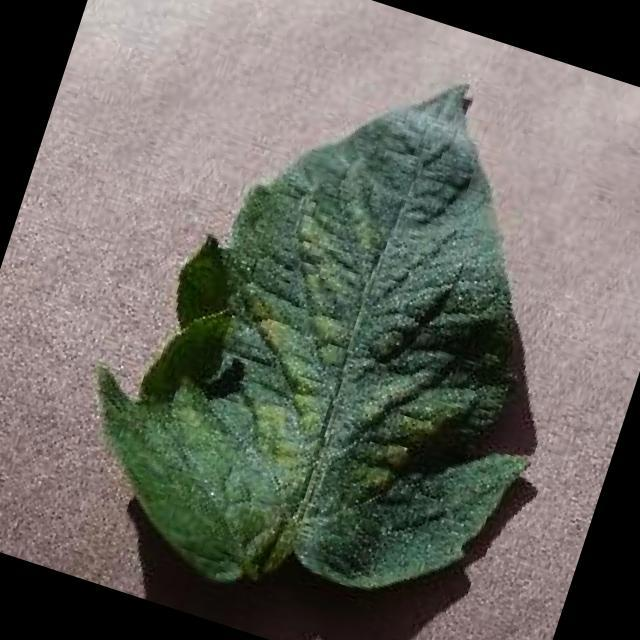Tomato spider mites leaf: (49, 4, 633, 640)
